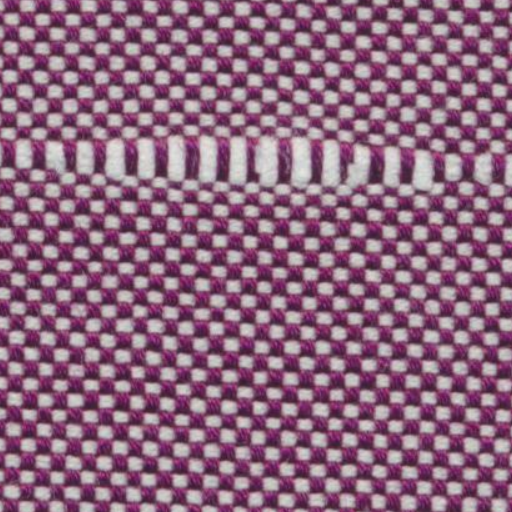DaiSha: (8, 119, 492, 210)
